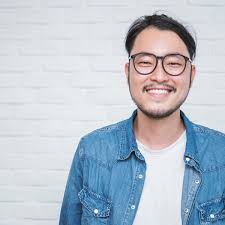Glasses: (122, 48, 194, 78)
